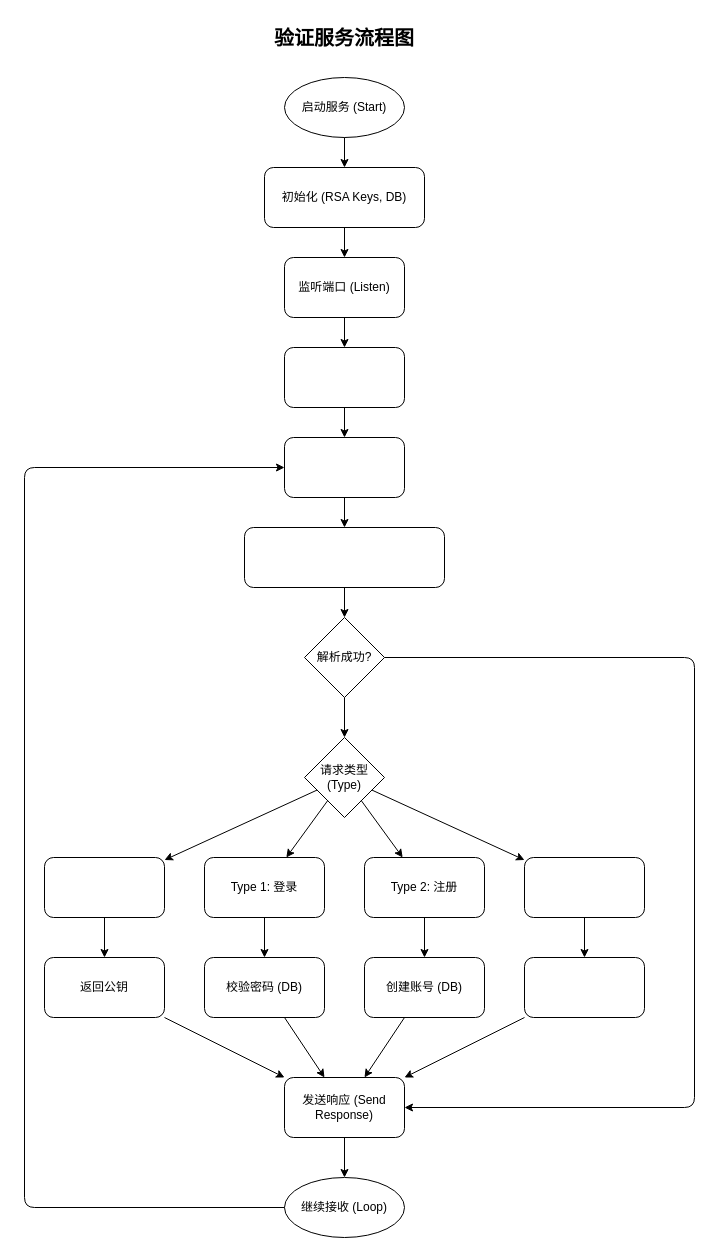
Some shapes in this 720 by 1255 pixel diagram are drawn without their labels. The centre of each missing label's shape, as x and y in pixels:
Type 0: 请求公钥: pixel 104 887
Type 3: 验证码: pixel 584 887
发送邮件: pixel 584 987
接受连接 (Accept): pixel 344 377
接收数据 (Receive): pixel 344 467
解析数据 (JSON/Base64/RSA): pixel 344 557
